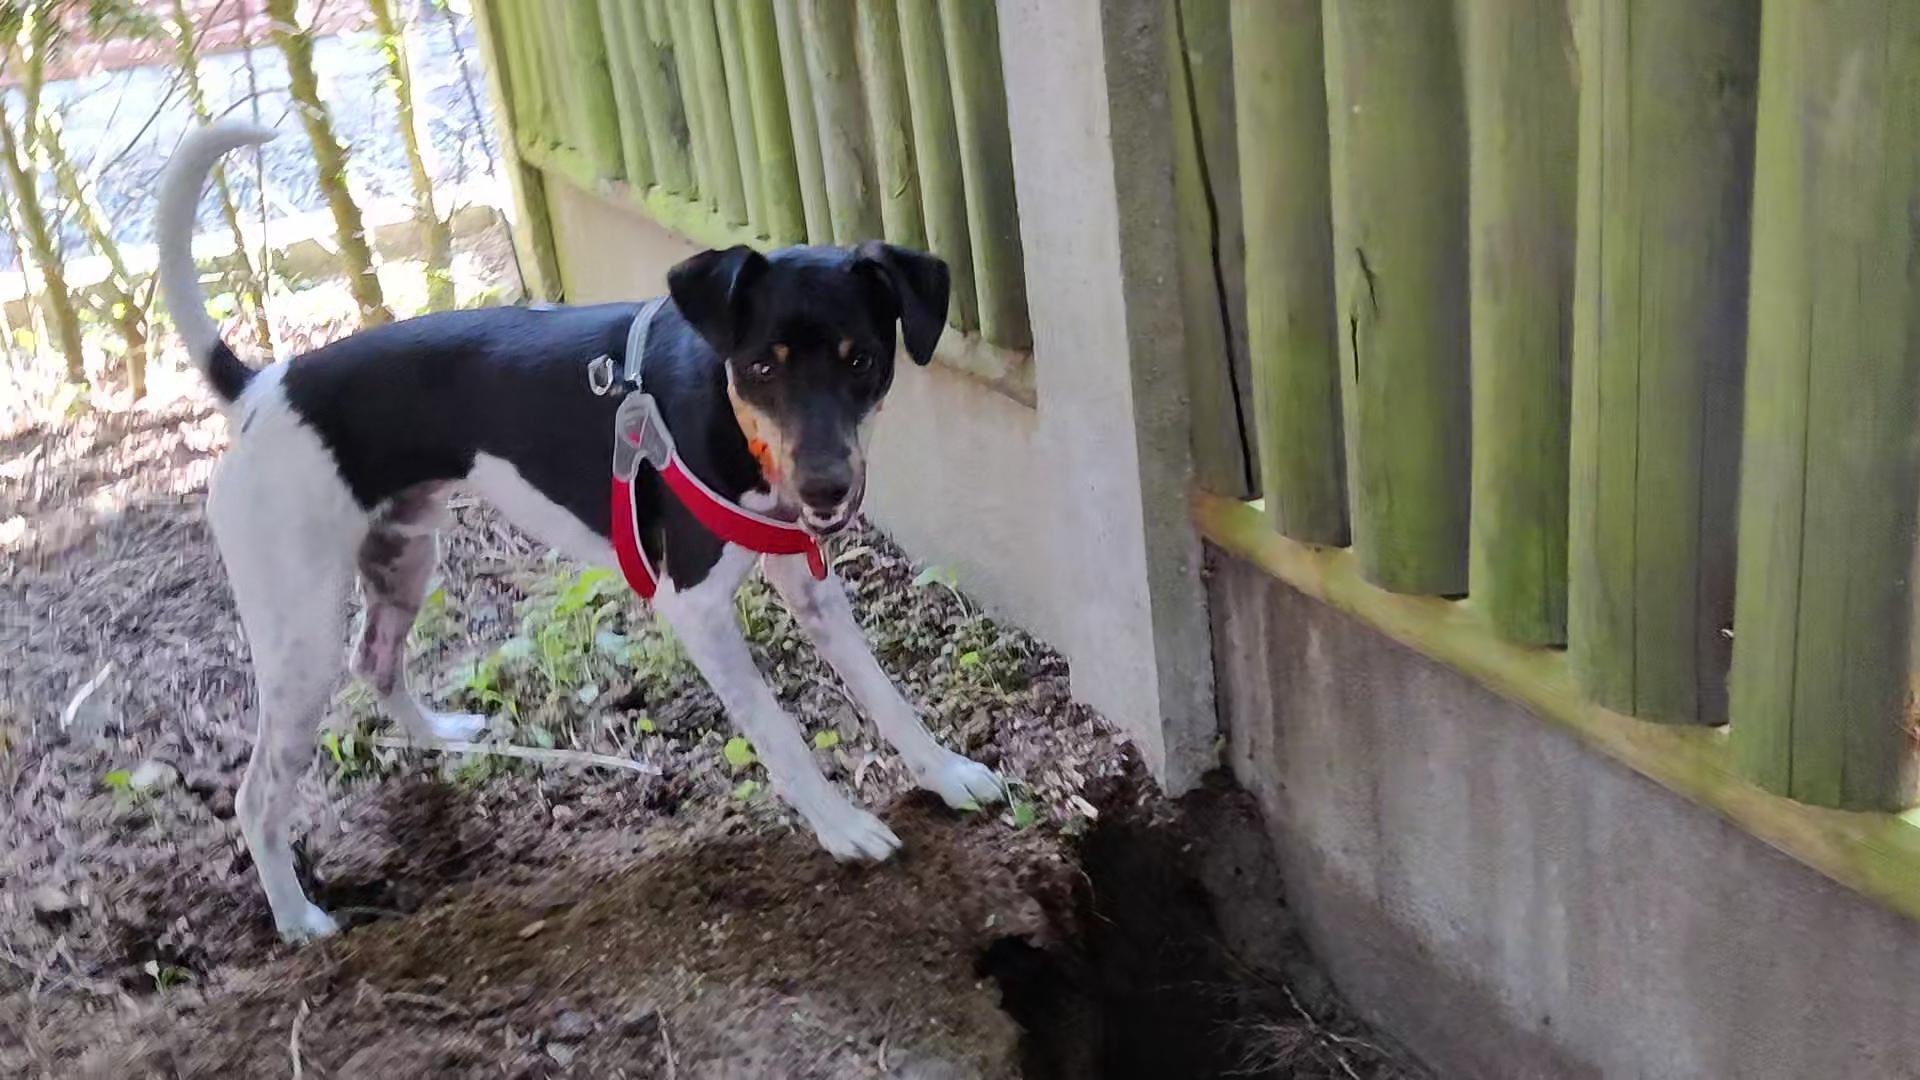Dog: (146, 100, 1015, 1001)
